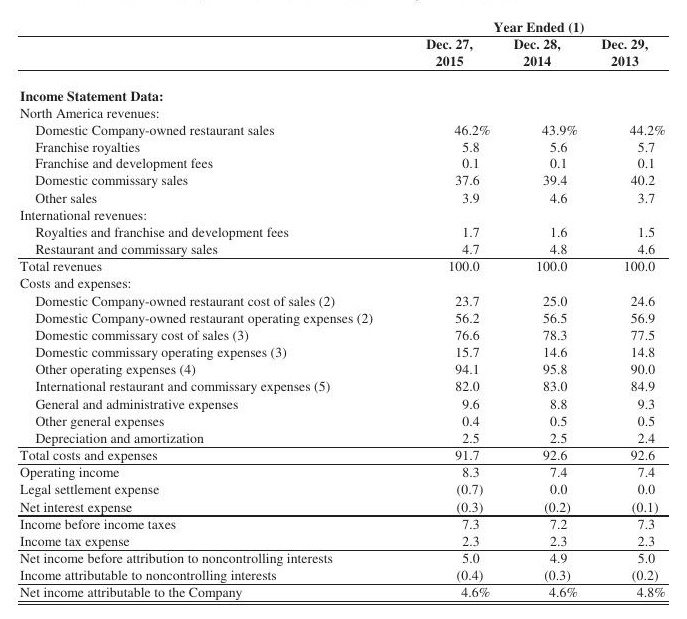table: (0, 0, 687, 619)
